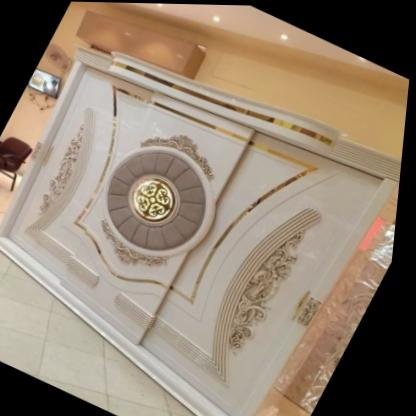Ceramic floor: (0, 249, 203, 416)
Closet: (0, 46, 405, 416)
